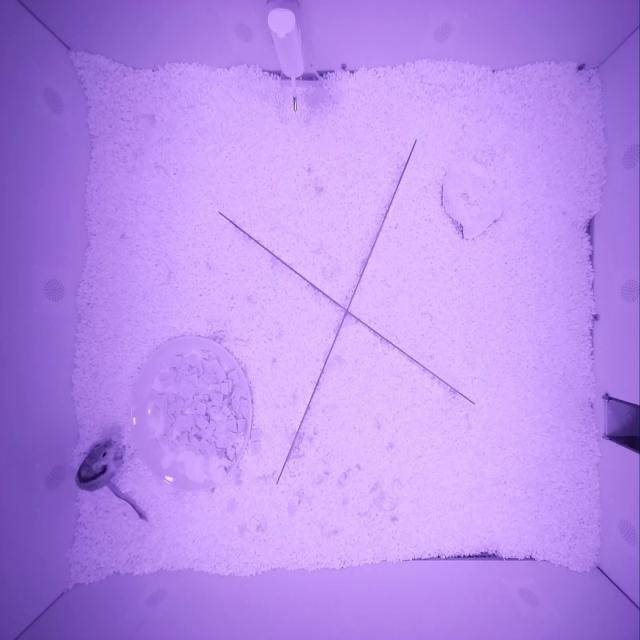adult_front: (74, 438, 118, 490)
